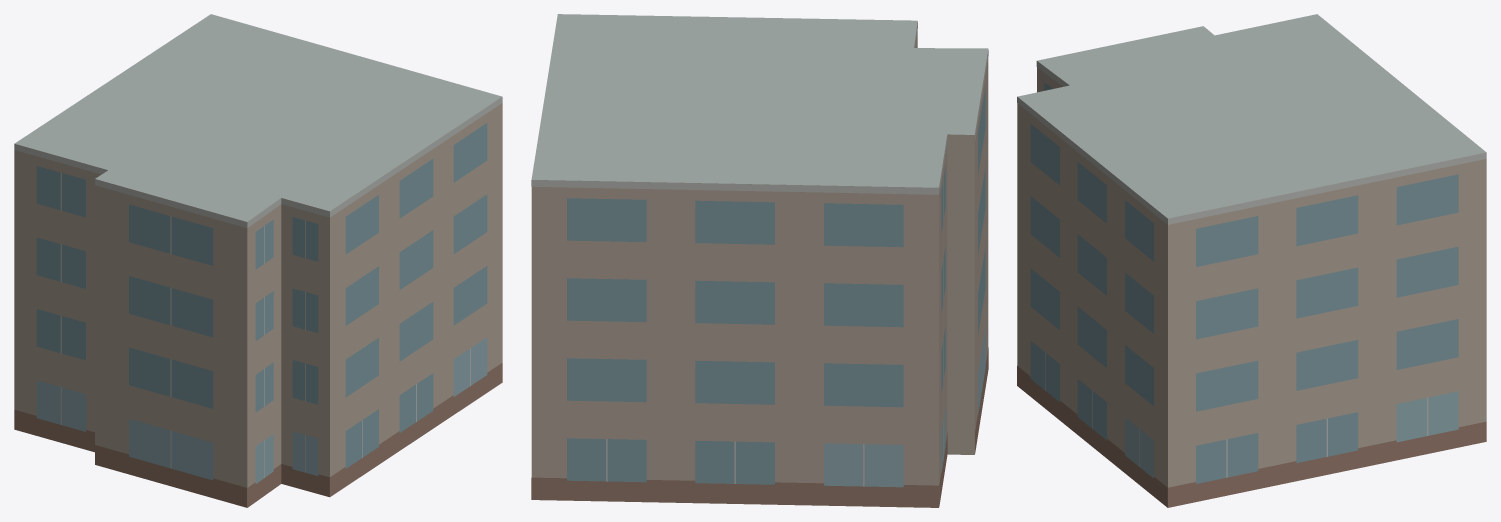
The model's file is survey-upis-32840682.glb.
3 renders of one model, left to right at view 1: azimuth 30°, elevation 25°; view 2: azimuth 150°, elevation 25°; view 3: azimuth 270°, elevation 25°, orthographic. The views are drawn at different scales.
Parts seen in each view (by area): view 1: survey-upis-32840682.tmp; view 2: survey-upis-32840682.tmp; view 3: survey-upis-32840682.tmp.
Part boxes in pixels (box(x1,y1,x2,y2)): survey-upis-32840682.tmp: box(14, 14, 502, 507); survey-upis-32840682.tmp: box(531, 14, 988, 507); survey-upis-32840682.tmp: box(1017, 14, 1486, 507).
Size of the model in its own units: 17 by 11.2 by 16.48.
